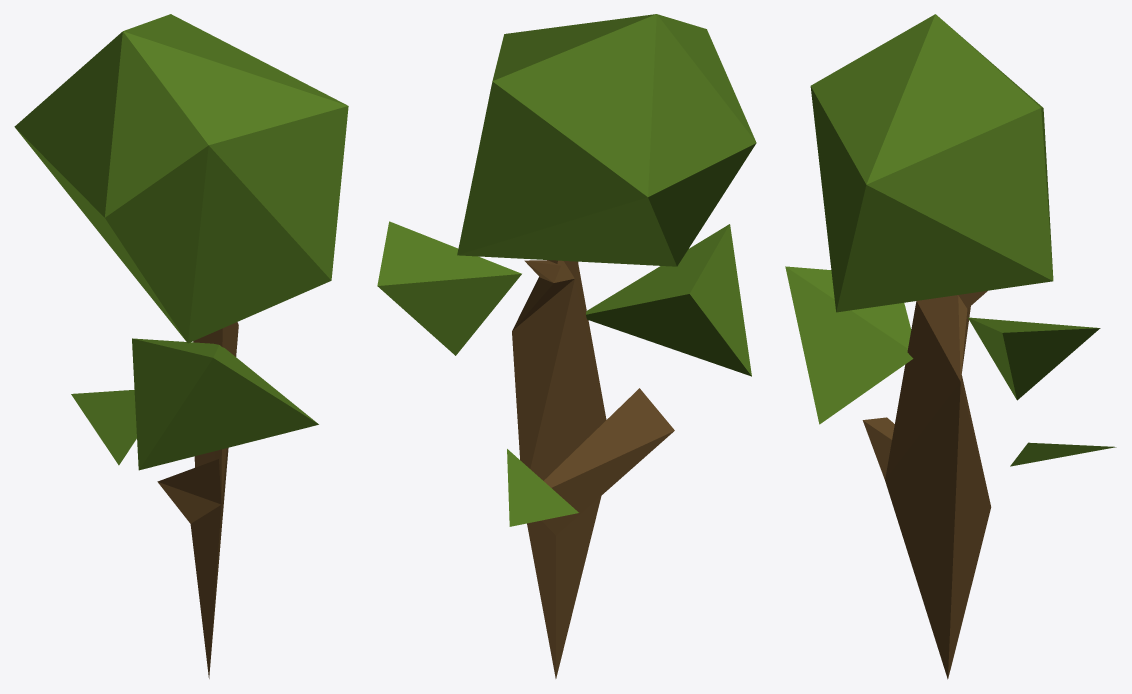
File: temp-decid.moderate-op0.125.gltf
3 views of the same model, side by side, from view 1: azimuth 30°, elevation 25°; view 2: azimuth 150°, elevation 25°; view 3: azimuth 270°, elevation 25° (orthographic). The views are drawn at different scales.
Parts seen in each view (by area): view 1: Tree1_2; view 2: Tree1_2; view 3: Tree1_2.
Boxes of the visible parts, left/top/right/bottom form: Tree1_2: left=14, top=14, right=348, bottom=678; Tree1_2: left=377, top=14, right=756, bottom=678; Tree1_2: left=785, top=14, right=1116, bottom=679.
Size of the model in its own units: 2.65 by 5.98 by 2.89.
Materials: 1 (1 with a texture image).
